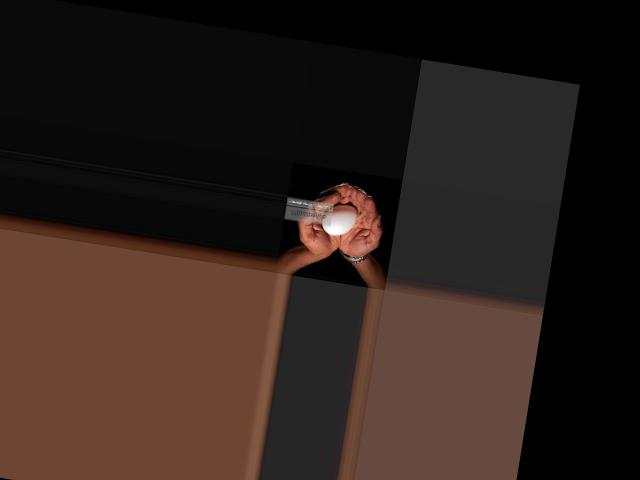egg: (322, 200, 359, 237)
